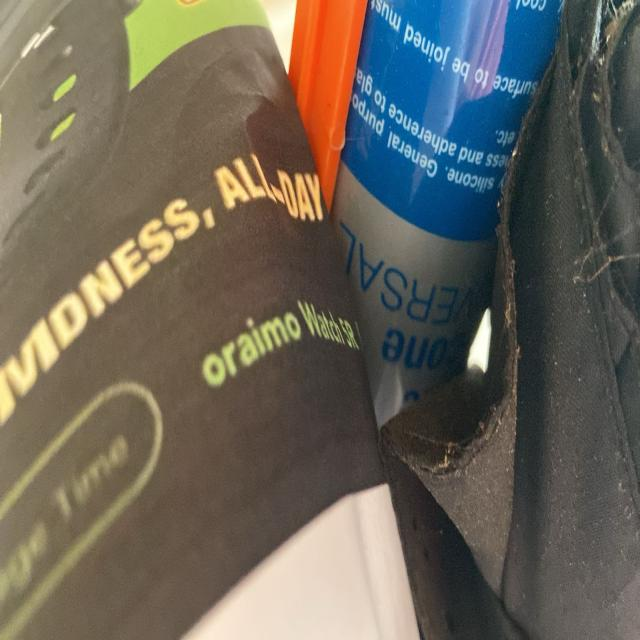Oraimo Watch 5R OSW-820: (198, 292, 363, 400)
